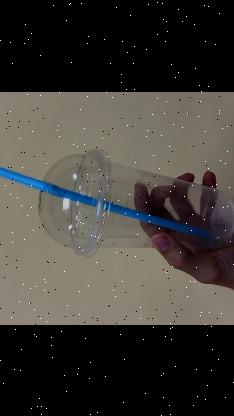Others: (35, 144, 234, 258)
